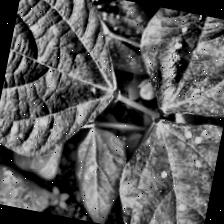Bean Rust: (0, 0, 133, 170), (111, 111, 223, 224), (131, 5, 224, 125), (60, 123, 133, 224), (84, 0, 164, 81), (0, 165, 56, 214)
